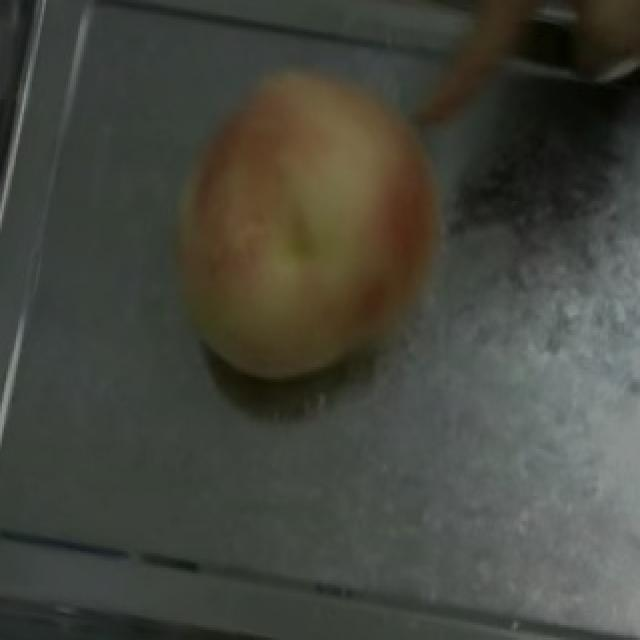Fruit: (134, 89, 460, 417)
